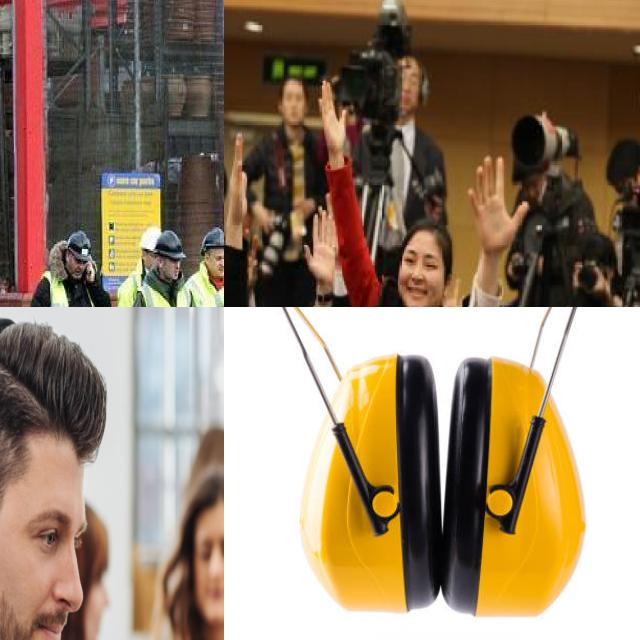Ear-protection: (225, 307, 628, 626), (0, 323, 100, 640)
No_Glasses: (2, 479, 96, 579)
face_mask: (206, 248, 224, 282), (68, 255, 90, 282), (164, 254, 184, 280)
face_nomask: (391, 236, 447, 307), (281, 90, 306, 127)
hand_noglove: (466, 155, 530, 258), (302, 209, 340, 284), (316, 78, 348, 152), (228, 130, 248, 216), (242, 229, 258, 296), (255, 204, 272, 233), (587, 264, 604, 293), (572, 262, 581, 295)
head_helmet: (150, 229, 188, 262), (63, 229, 95, 261), (198, 225, 224, 254)
head_nohelmet: (406, 218, 452, 245), (278, 76, 306, 92)
person: (235, 62, 336, 222), (367, 46, 444, 200), (361, 224, 455, 307)
vest: (36, 269, 107, 307), (131, 270, 202, 307)
